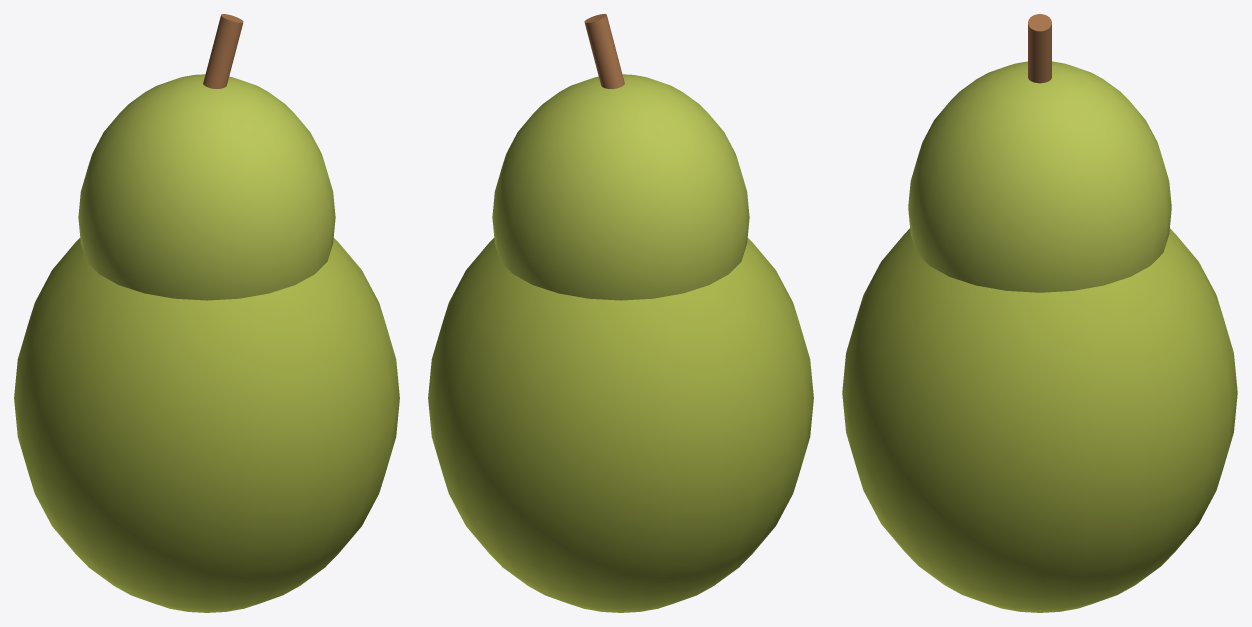
File: wp-poire-william.glb
3 renders of one model, left to right at view 1: azimuth 30°, elevation 25°; view 2: azimuth 150°, elevation 25°; view 3: azimuth 270°, elevation 25°, orthographic. The views are drawn at different scales.
Visible parts, largest first — view 1: wp-poire-william; view 2: wp-poire-william; view 3: wp-poire-william.
Part boxes in pixels (bbox=[...]): wp-poire-william: bbox=[14, 14, 399, 612]; wp-poire-william: bbox=[428, 14, 813, 612]; wp-poire-william: bbox=[842, 14, 1237, 612].
Bounding box in the file's own units: 0.085 × 0.14 × 0.085.
